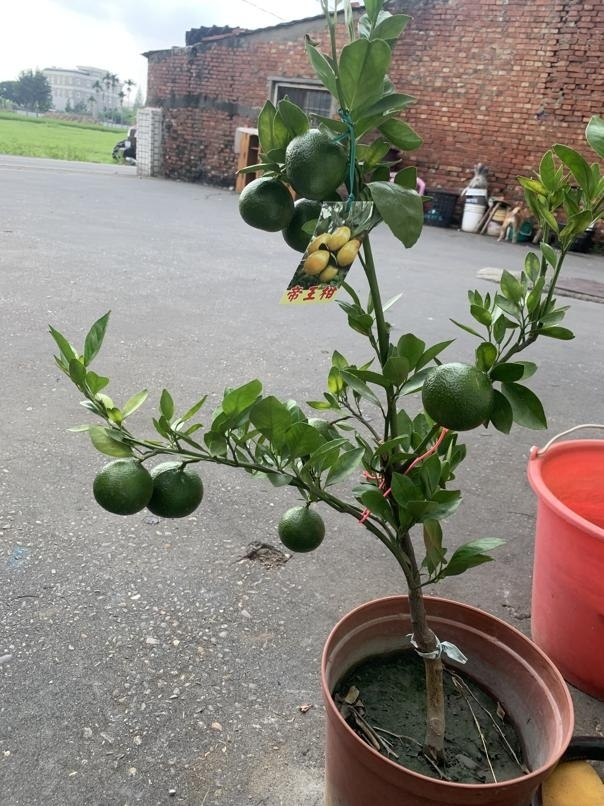Tangerine: (422, 360, 497, 432), (281, 129, 349, 197), (90, 454, 153, 518), (144, 459, 207, 517), (238, 173, 296, 232), (276, 501, 329, 556)
